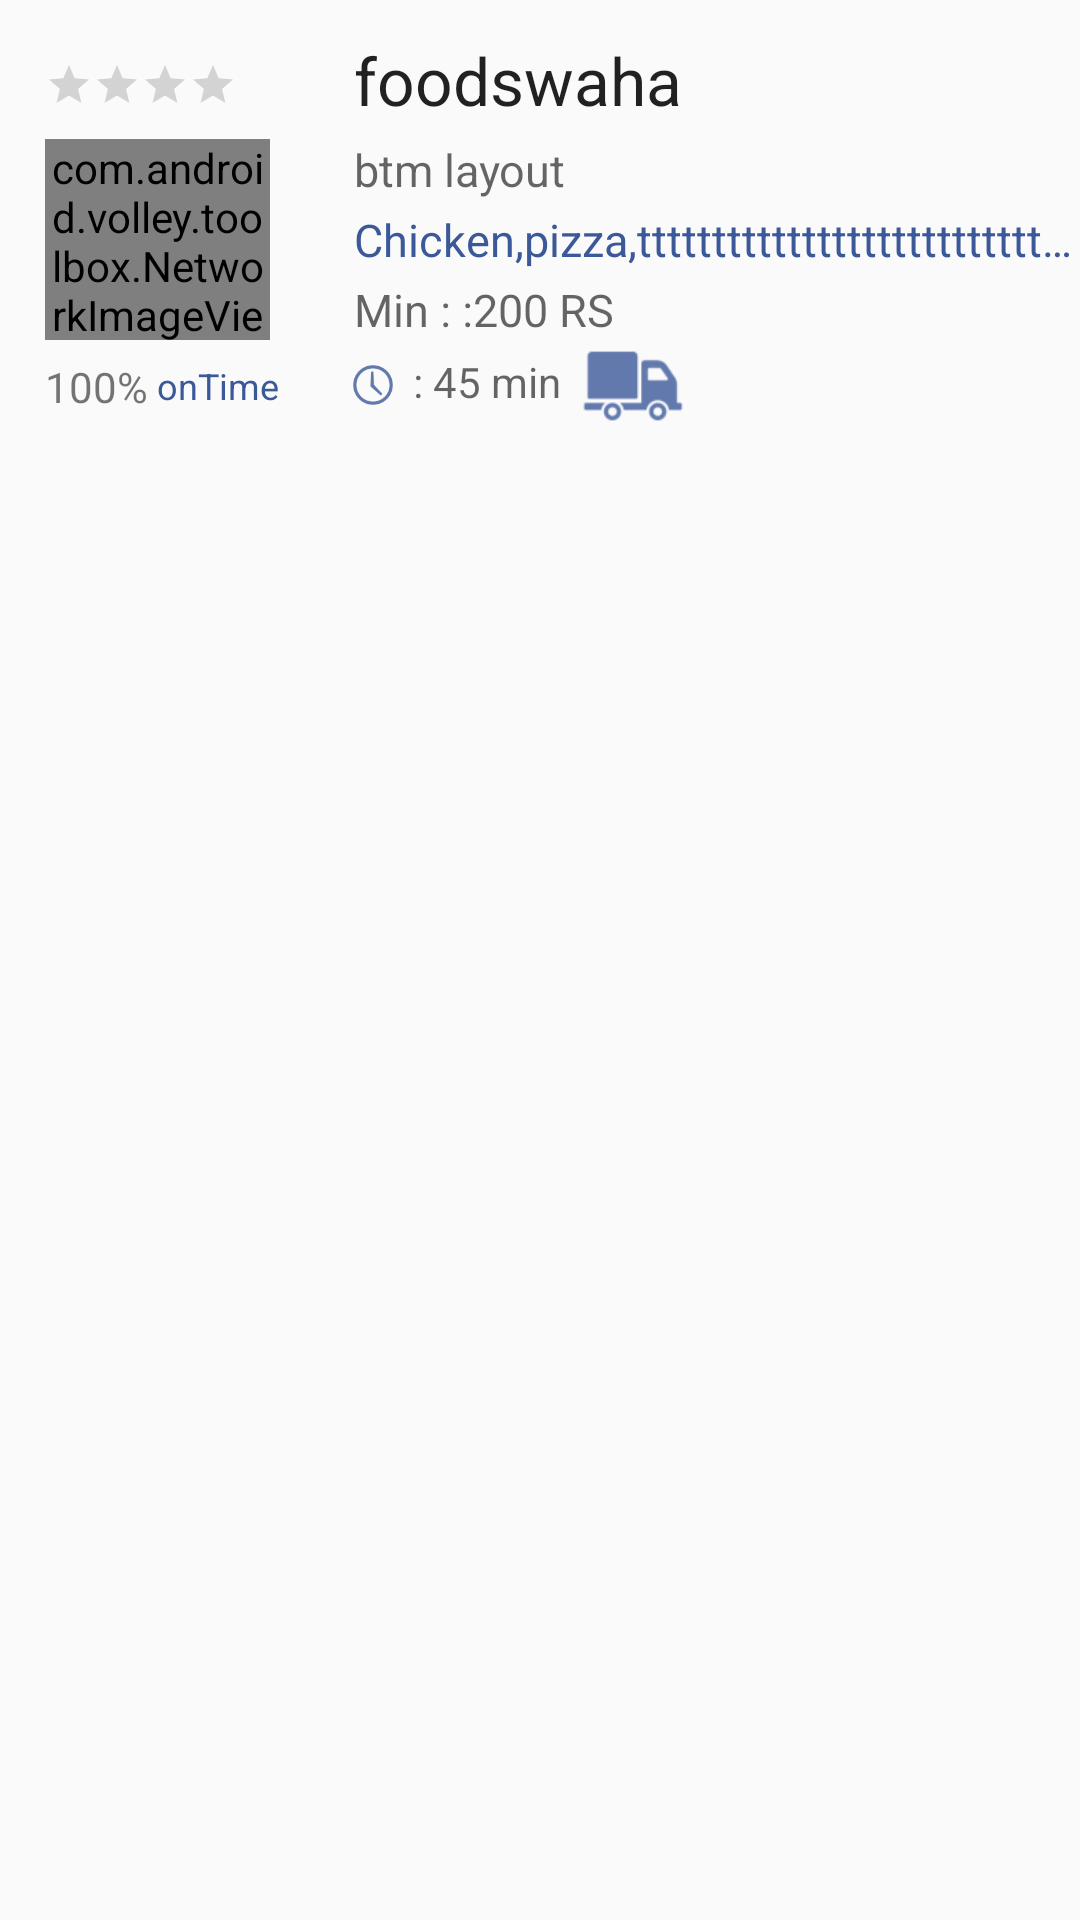

Icons on this 1080 × 1920 Android screen, each with its box as (x1, y1, x2, y2):
deliverycharge: (583, 351, 683, 421)
deltime: (353, 365, 393, 405)
